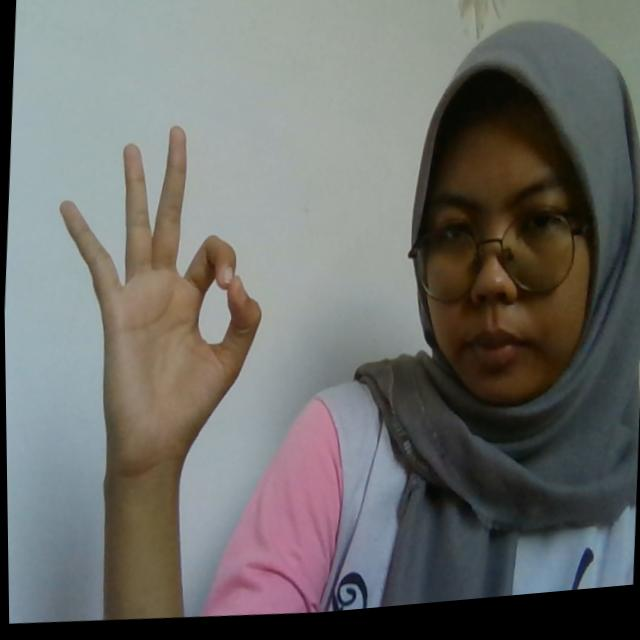F: (43, 116, 275, 486)
